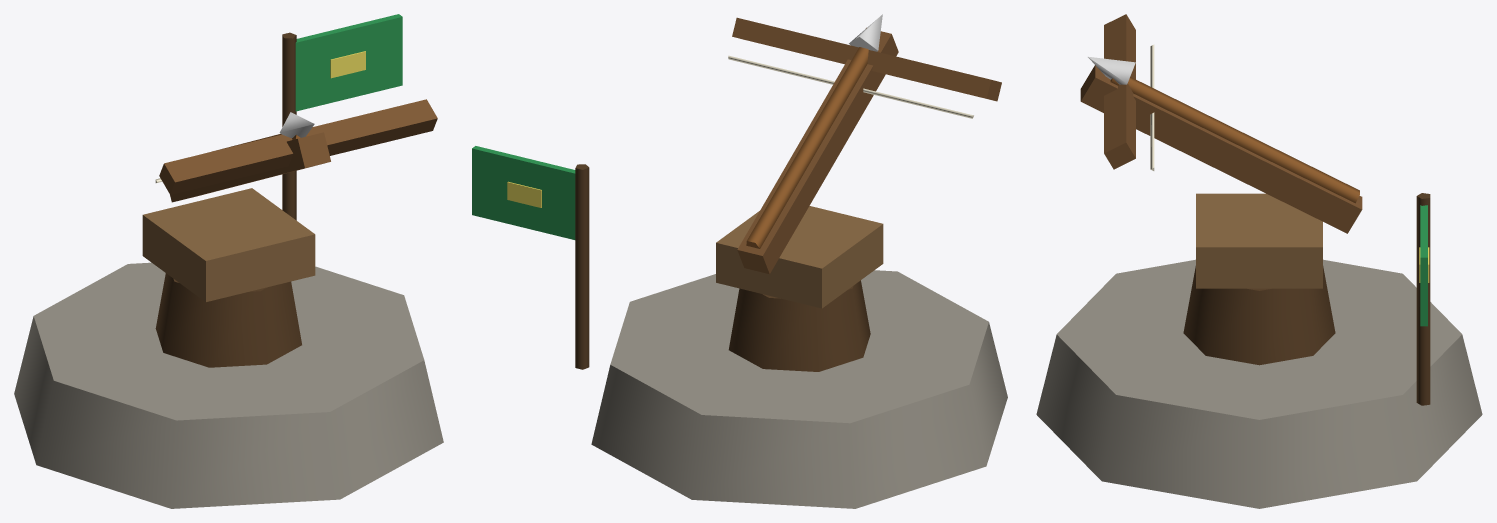
File: level1.glb
3 renders of one model, left to right at view 1: azimuth 30°, elevation 25°; view 2: azimuth 150°, elevation 25°; view 3: azimuth 270°, elevation 25°, orthographic. The views are drawn at different scales.
Visible parts, largest first — view 1: object 1, turret, object 2, object 5, object 4, object 6; view 2: object 1, turret, object 2, object 5, object 4, object 6; view 3: object 1, turret, object 2, object 4, object 5.
Part boxes in pixels (<box>): object 1: <box>14,262,443,508</box>; turret: <box>142,99,437,301</box>; object 2: <box>155,273,301,367</box>; object 5: <box>295,14,402,111</box>; object 4: <box>282,32,296,220</box>; object 6: <box>330,51,365,78</box>; object 1: <box>591,270,1007,508</box>; turret: <box>716,14,1001,308</box>; object 2: <box>728,280,870,371</box>; object 5: <box>472,146,575,239</box>; object 4: <box>575,164,589,369</box>; object 6: <box>507,181,541,207</box>; object 1: <box>1036,259,1482,508</box>; turret: <box>1080,14,1362,288</box>; object 2: <box>1183,266,1335,365</box>; object 4: <box>1416,193,1430,405</box>; object 5: <box>1420,205,1427,326</box>.
Size of the model in its own units: 2.04 by 1.56 by 1.76.
